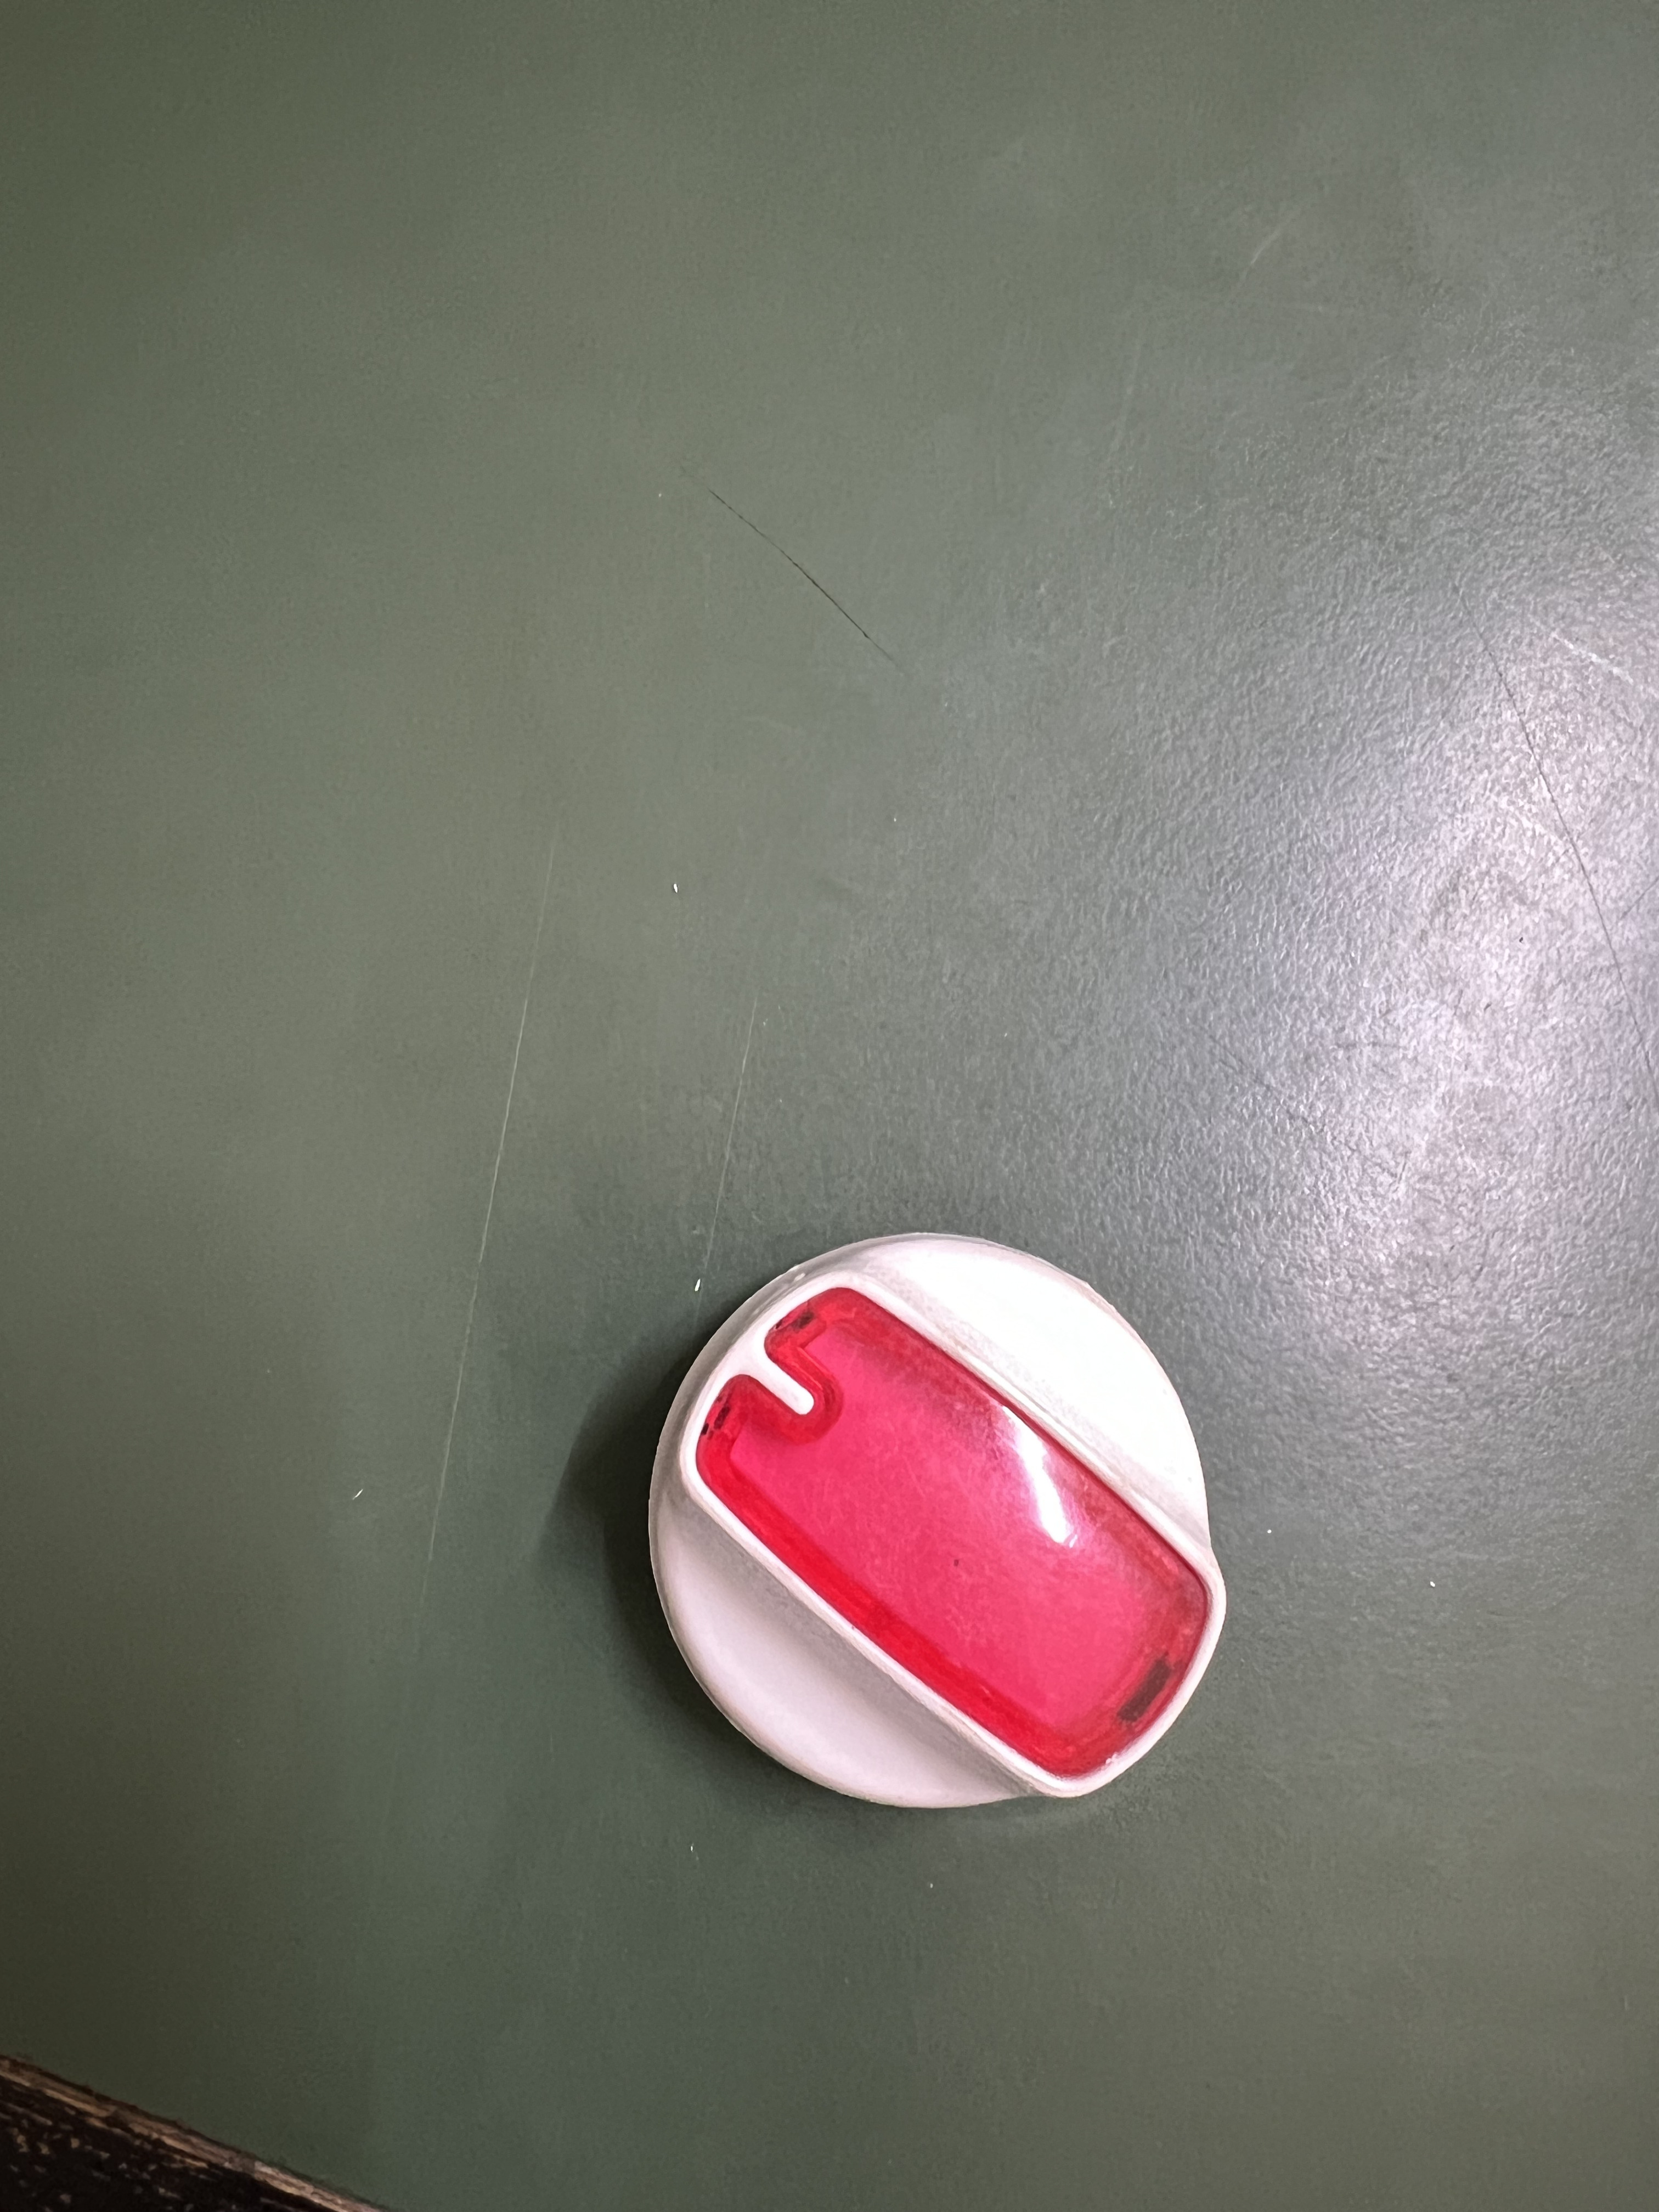regulator: (629, 1219, 1274, 1801)
